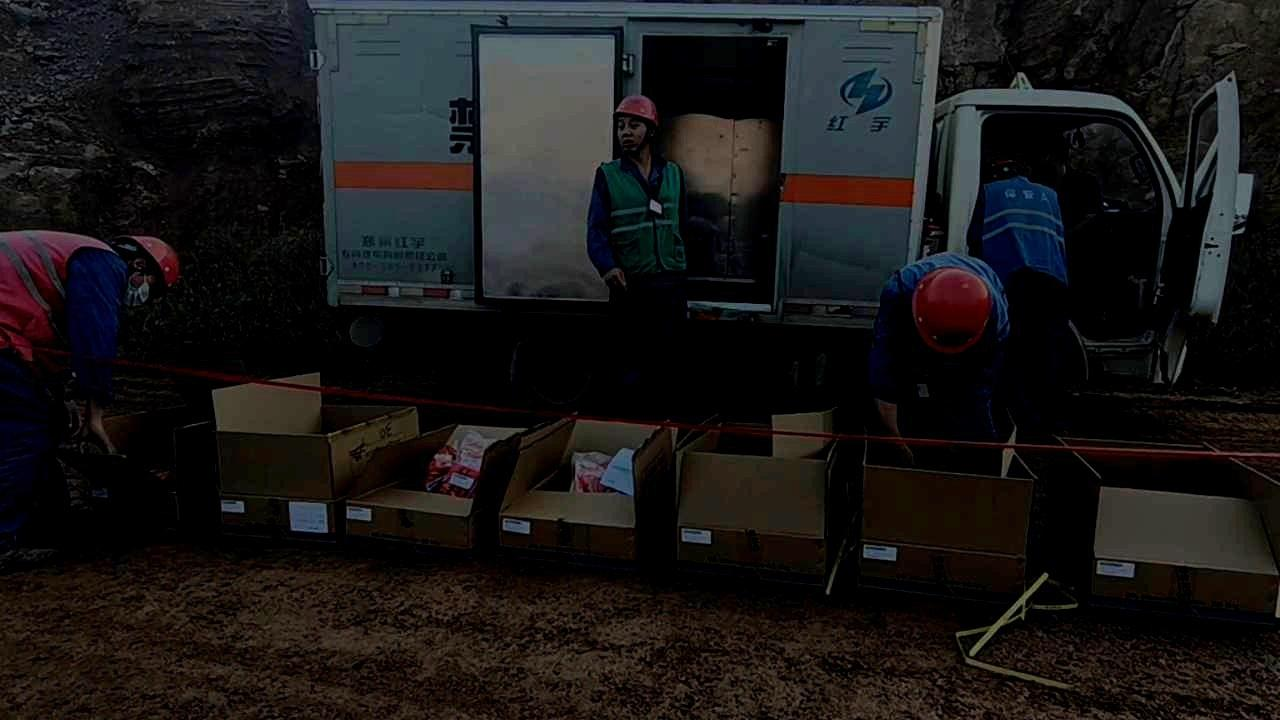helmet: (911, 266, 994, 355), (109, 234, 179, 306), (613, 94, 659, 153)
